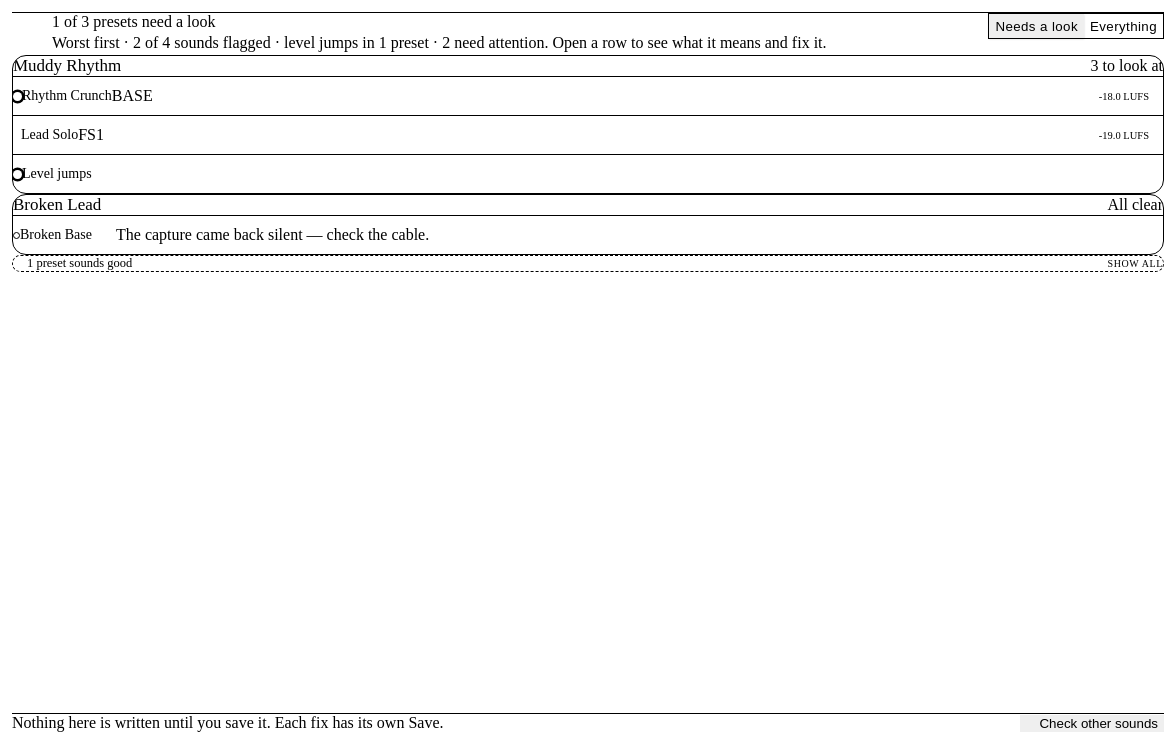
Test case: DoctorResults — summary + cards › gives an advisory prescription no Apply button
The image size is (1176, 732).
Click the text "Rhythm Crunch" at coordinates (67, 96), box [22, 88, 112, 104]
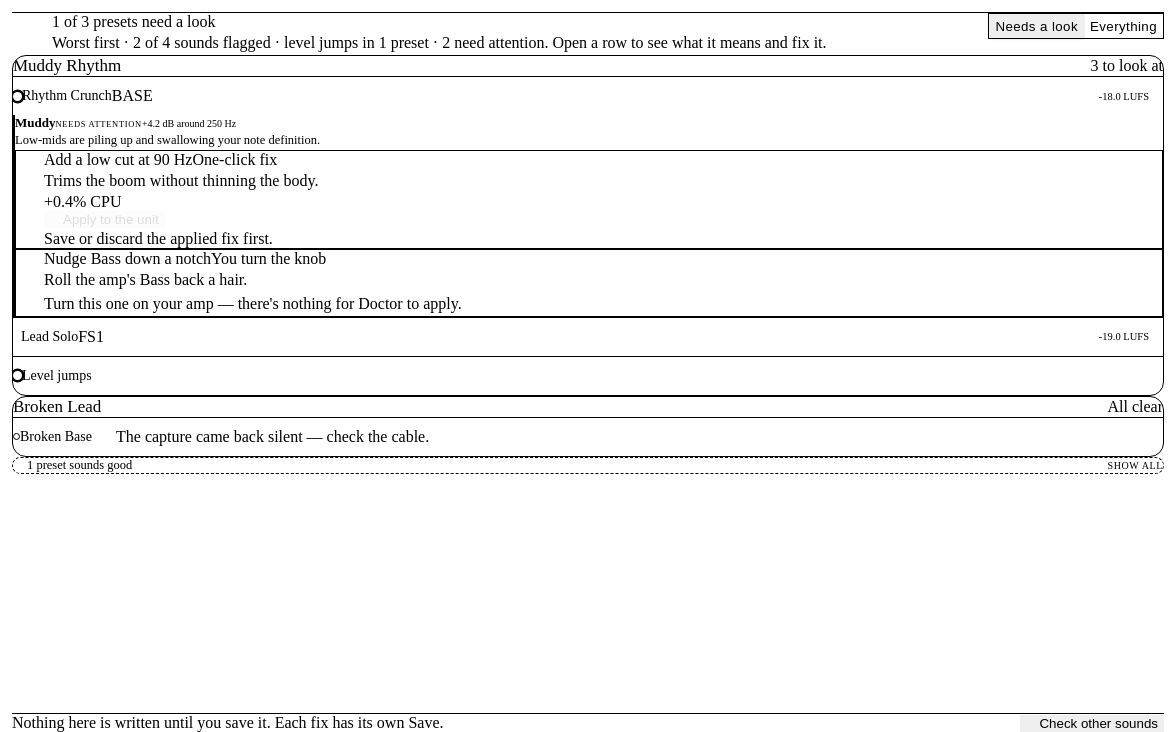
expect the number of buttons "Apply to the unit" is 1: met, box [44, 211, 165, 228]
expect the text "Nudge Bass down a notch" is shown: met, box [44, 250, 211, 268]
